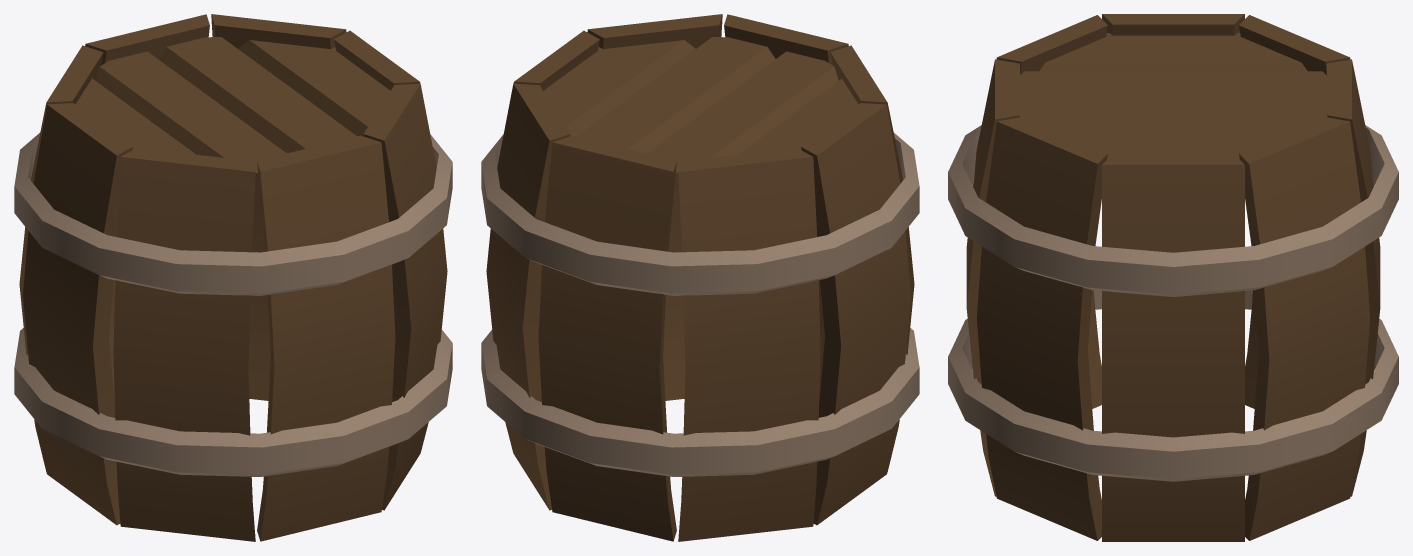
Rendered from beach_barrel.glb.
The picture shows the model from 3 angles, left to right: view 1: azimuth 30°, elevation 25°; view 2: azimuth 150°, elevation 25°; view 3: azimuth 270°, elevation 25°; orthographic projection.
Visible parts, largest first — view 1: Prop_Barrel; view 2: Prop_Barrel; view 3: Prop_Barrel.
Part boxes in pixels (x1=…): Prop_Barrel: x1=14, y1=14, x2=452, y2=541; Prop_Barrel: x1=481, y1=14, x2=919, y2=541; Prop_Barrel: x1=948, y1=14, x2=1398, y2=541.
Bounding box in the file's own units: 0.7147 × 0.6599 × 0.7147.
Materials: 1 (1 with a texture image).
